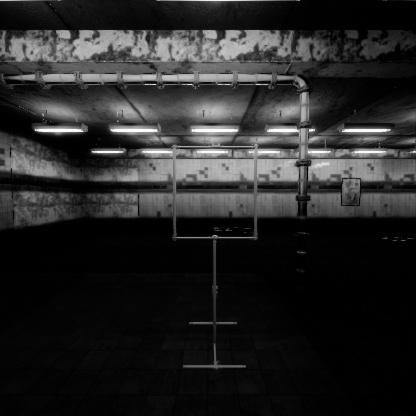gate: (173, 175, 265, 270)
